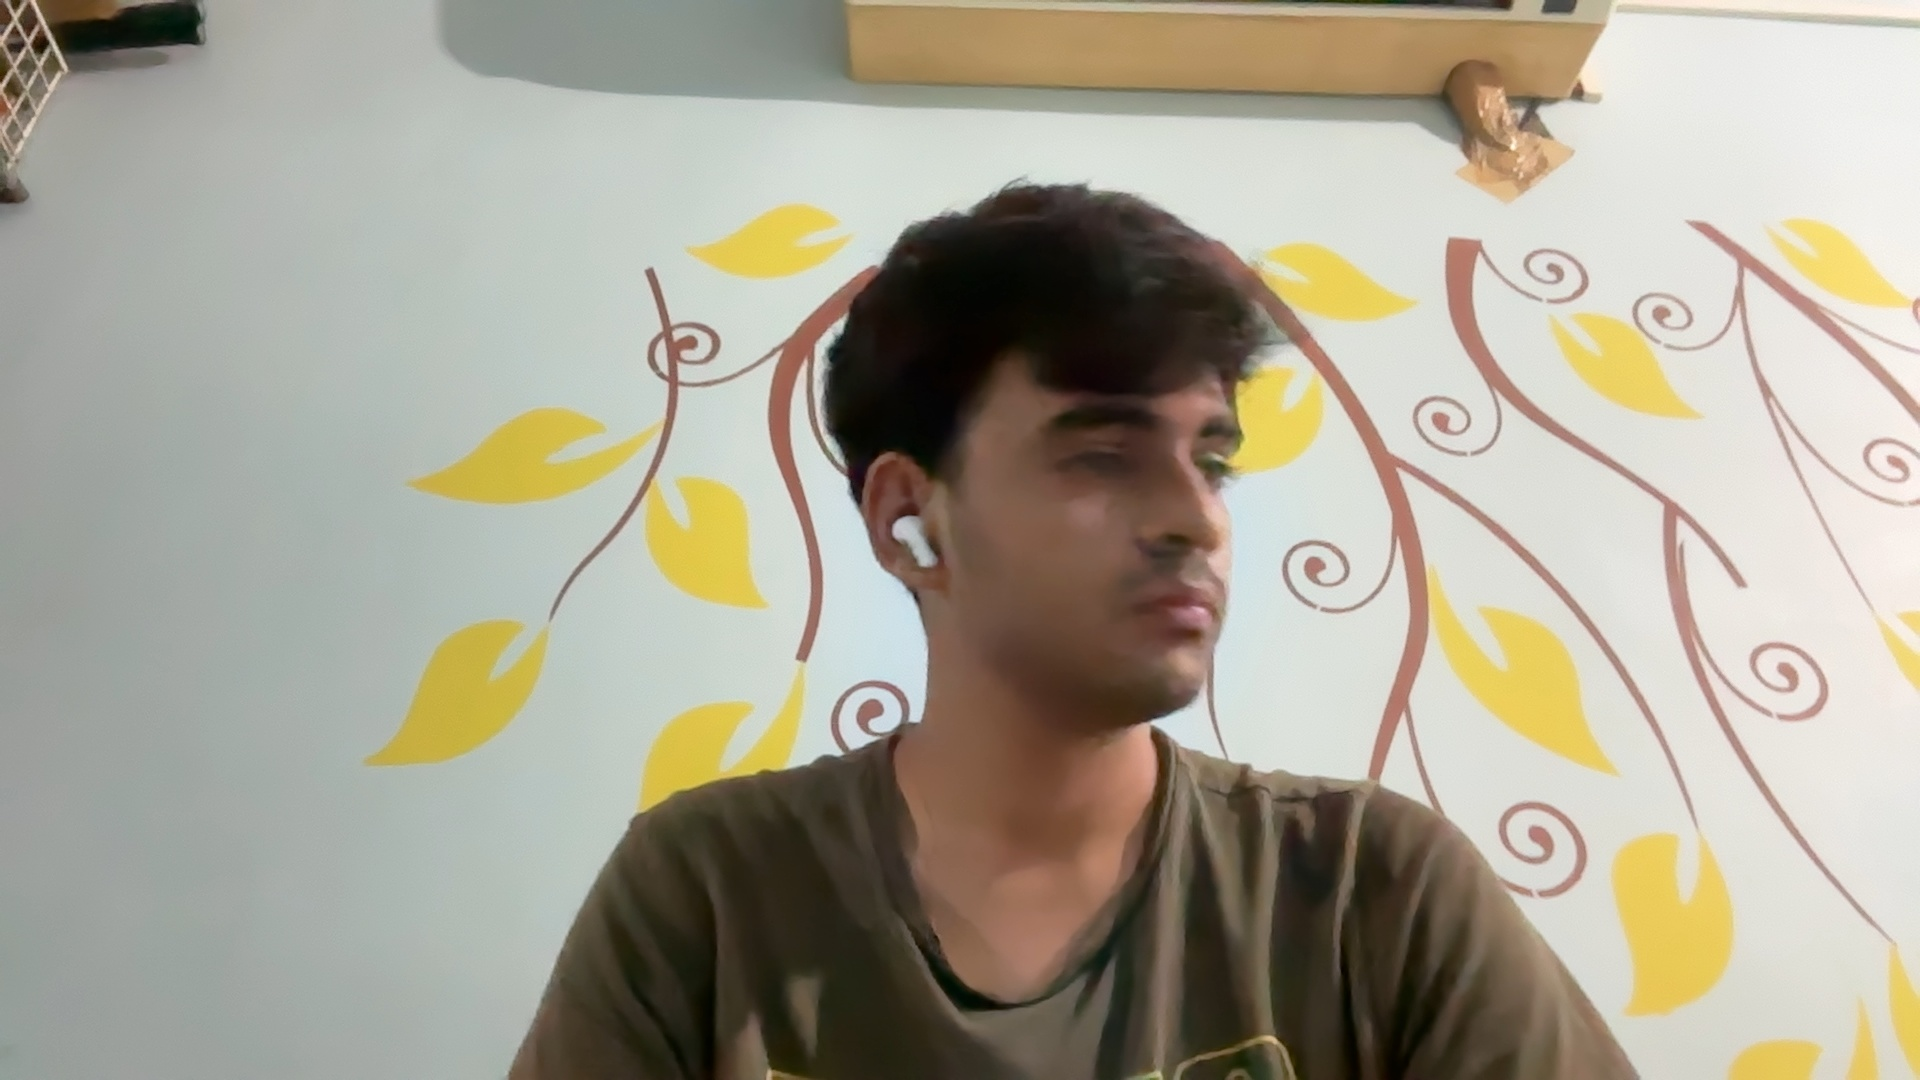No Mask: (948, 498, 1282, 708)
